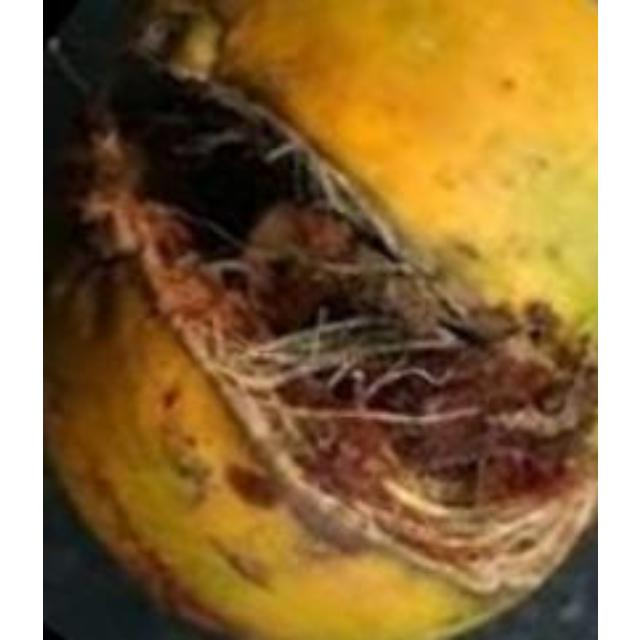damaged: (42, 0, 594, 637)
